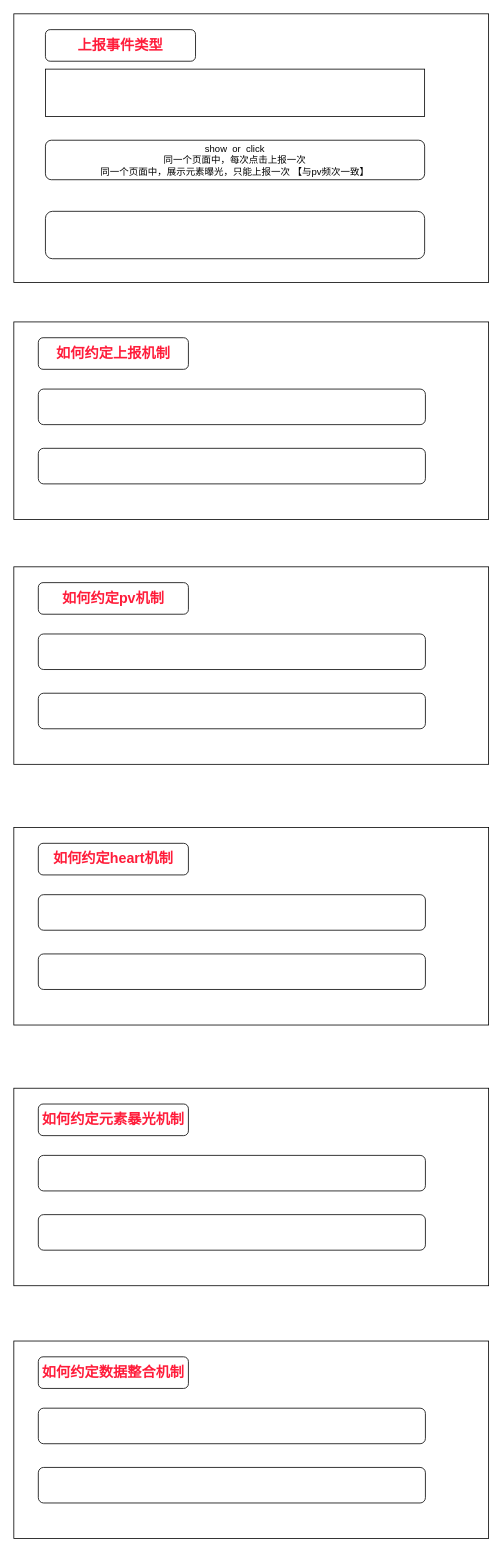
Some shapes in this 502 by 1552 pixel diagram are drawn without their labels. Each missing label, with the box of its shape:
heart 【间隔一定时间发送一次请求】: (45, 211, 425, 259)
pv 【每个页面发送一次，多次刷新一个页面至少间隔一定时间才上报】: (45, 68, 425, 117)
